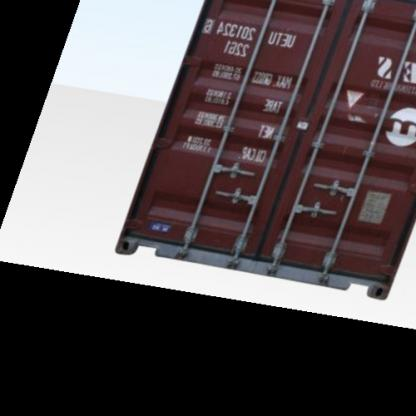Damage: (341, 83, 381, 127), (336, 141, 356, 160)
